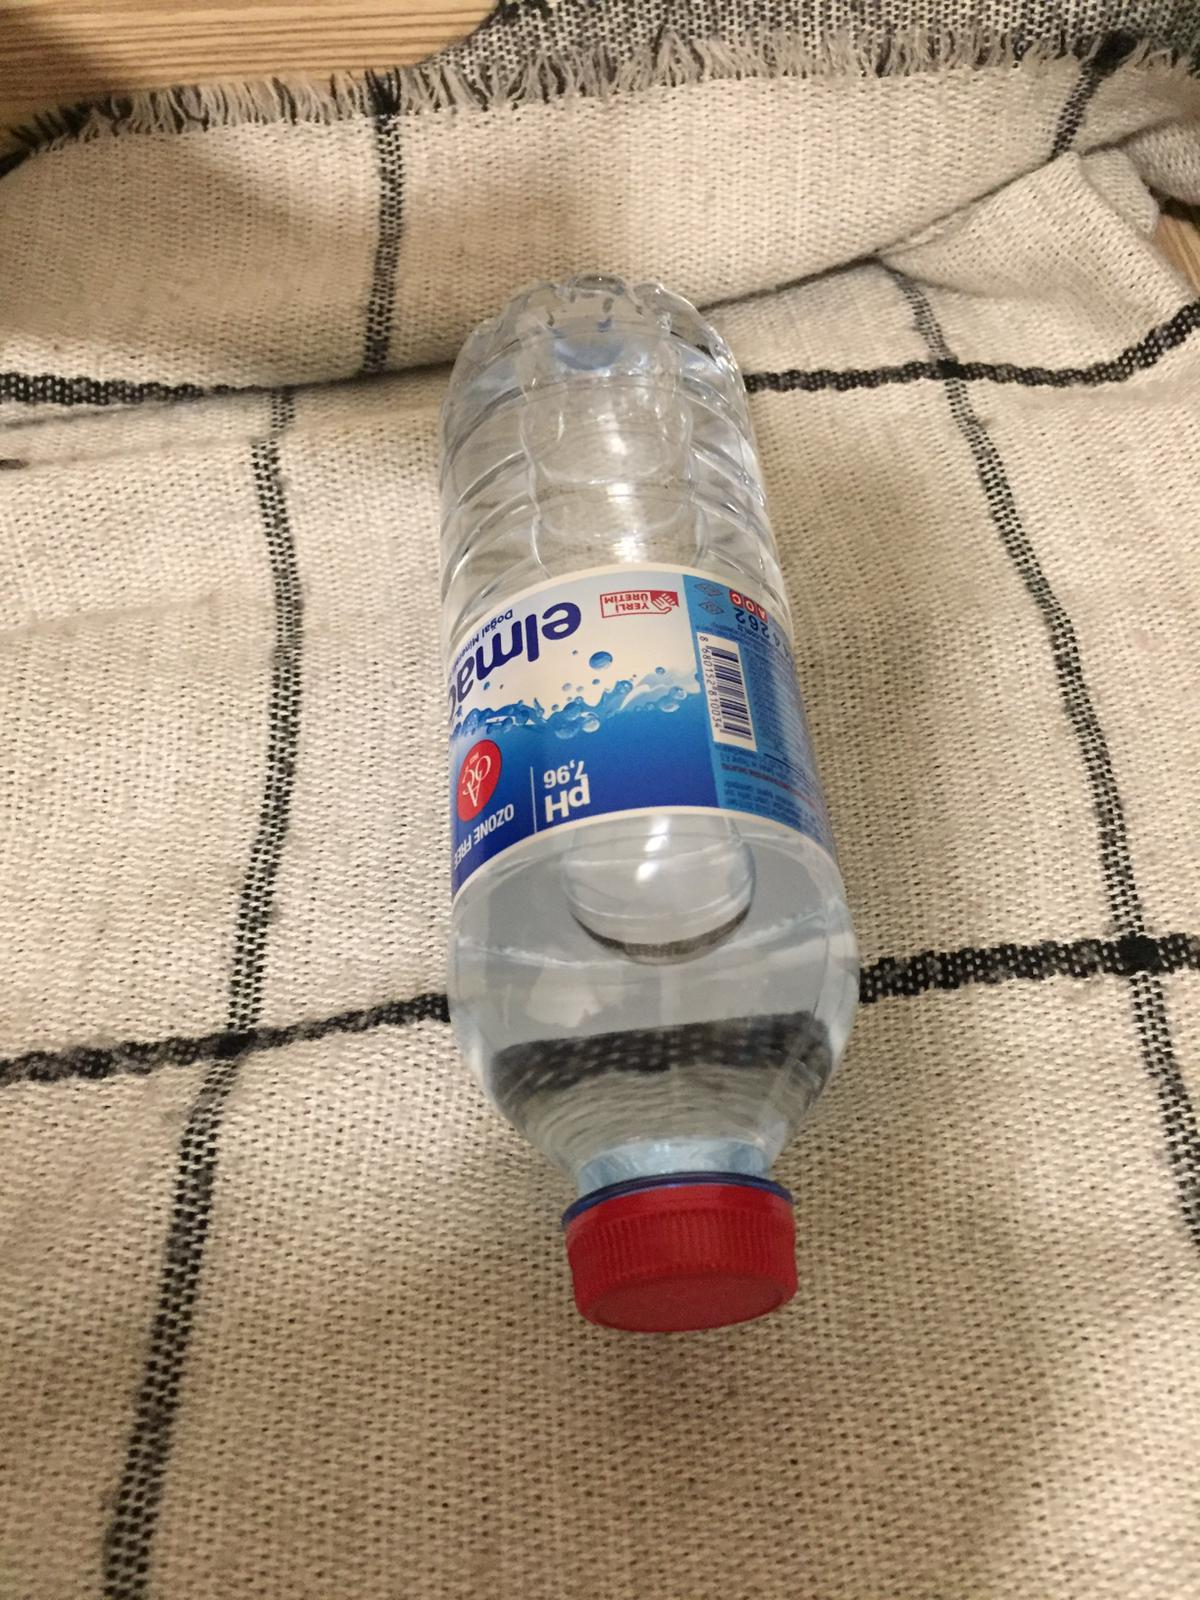bottle: (445, 273, 866, 1348)
